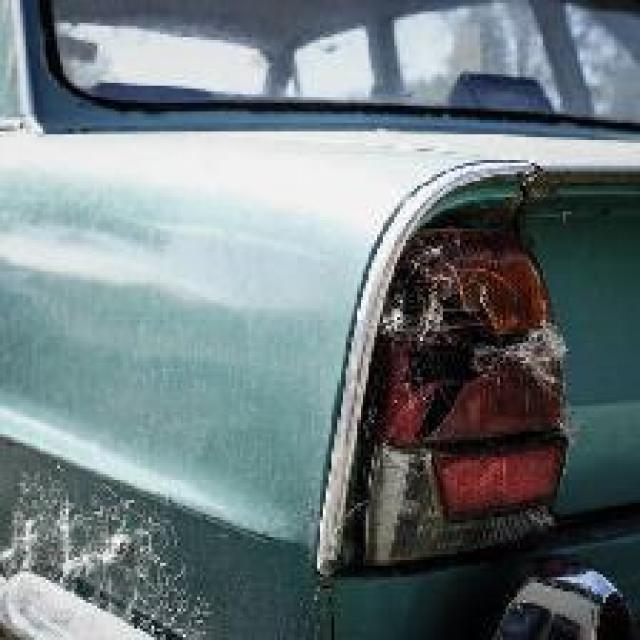damaged: (348, 228, 578, 563), (3, 472, 200, 637)
